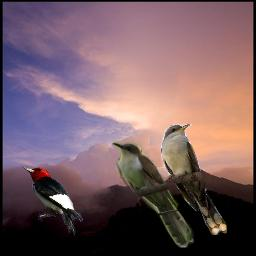Cuckoo: (111, 140, 194, 248), (161, 124, 227, 235)
Woodpecker: (20, 166, 84, 236)
